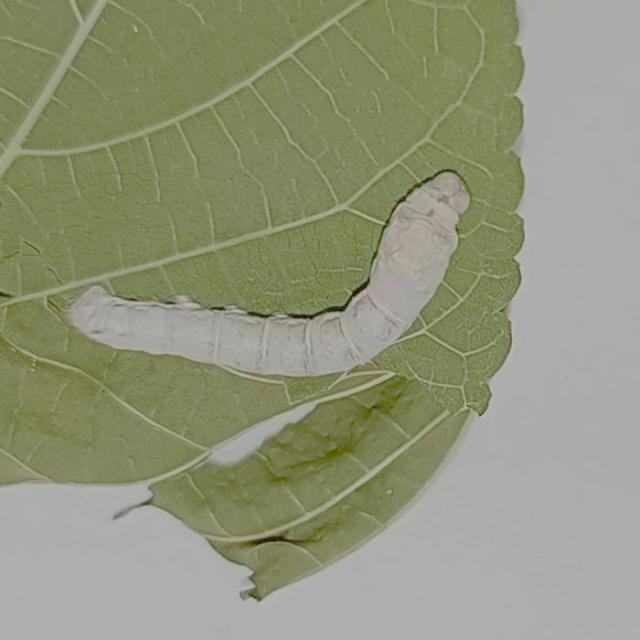Healthy: (64, 163, 487, 387)
